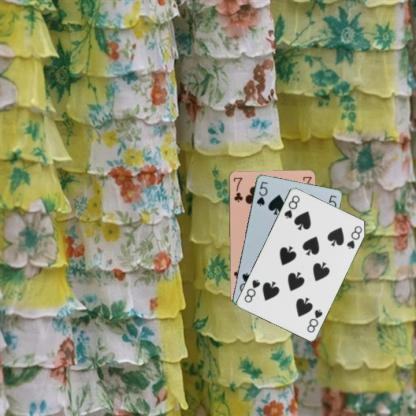5s: (254, 178, 268, 207)
7c: (230, 174, 244, 203)
8s: (281, 192, 301, 220), (304, 307, 323, 334)
